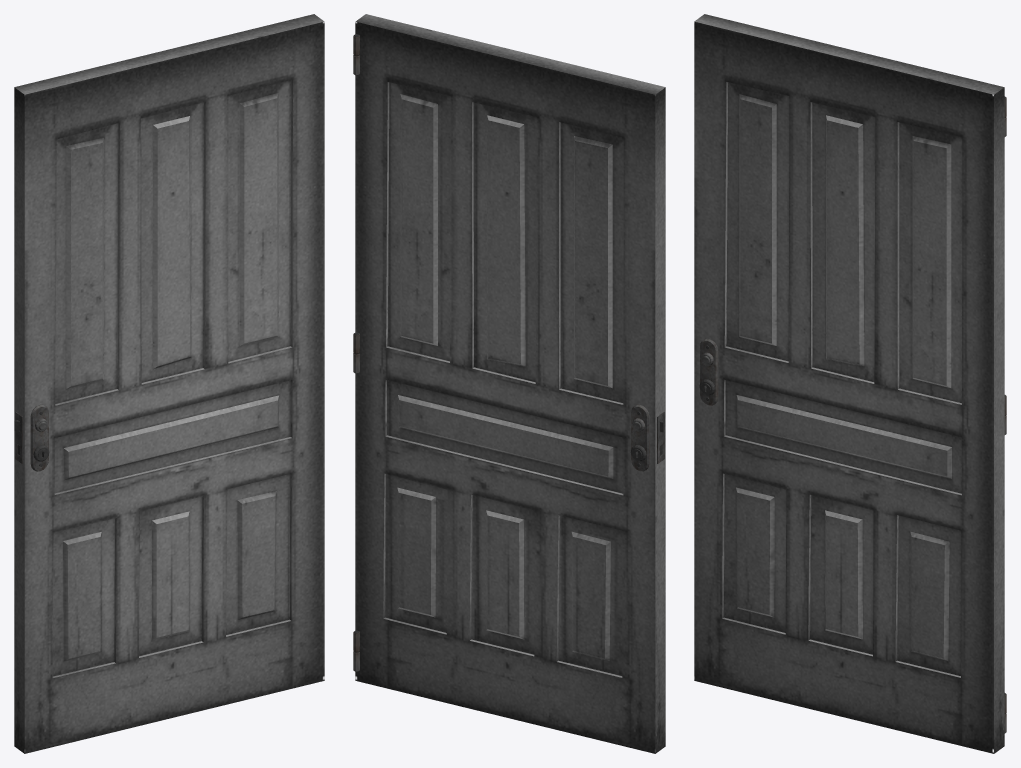
3 renders of one model, left to right at view 1: azimuth 30°, elevation 25°; view 2: azimuth 150°, elevation 25°; view 3: azimuth 330°, elevation 25°, orthographic.
Parts seen in each view (by area): view 1: door_1; view 2: door_1; view 3: door_1.
Boxes of the visible parts, x1,y1,x2,y2 form: door_1: (14, 14, 324, 753); door_1: (353, 14, 665, 753); door_1: (694, 14, 1006, 753).
Size of the model in its own units: 1.01 by 2.1 by 0.1.
3 materials, 3 textured.
